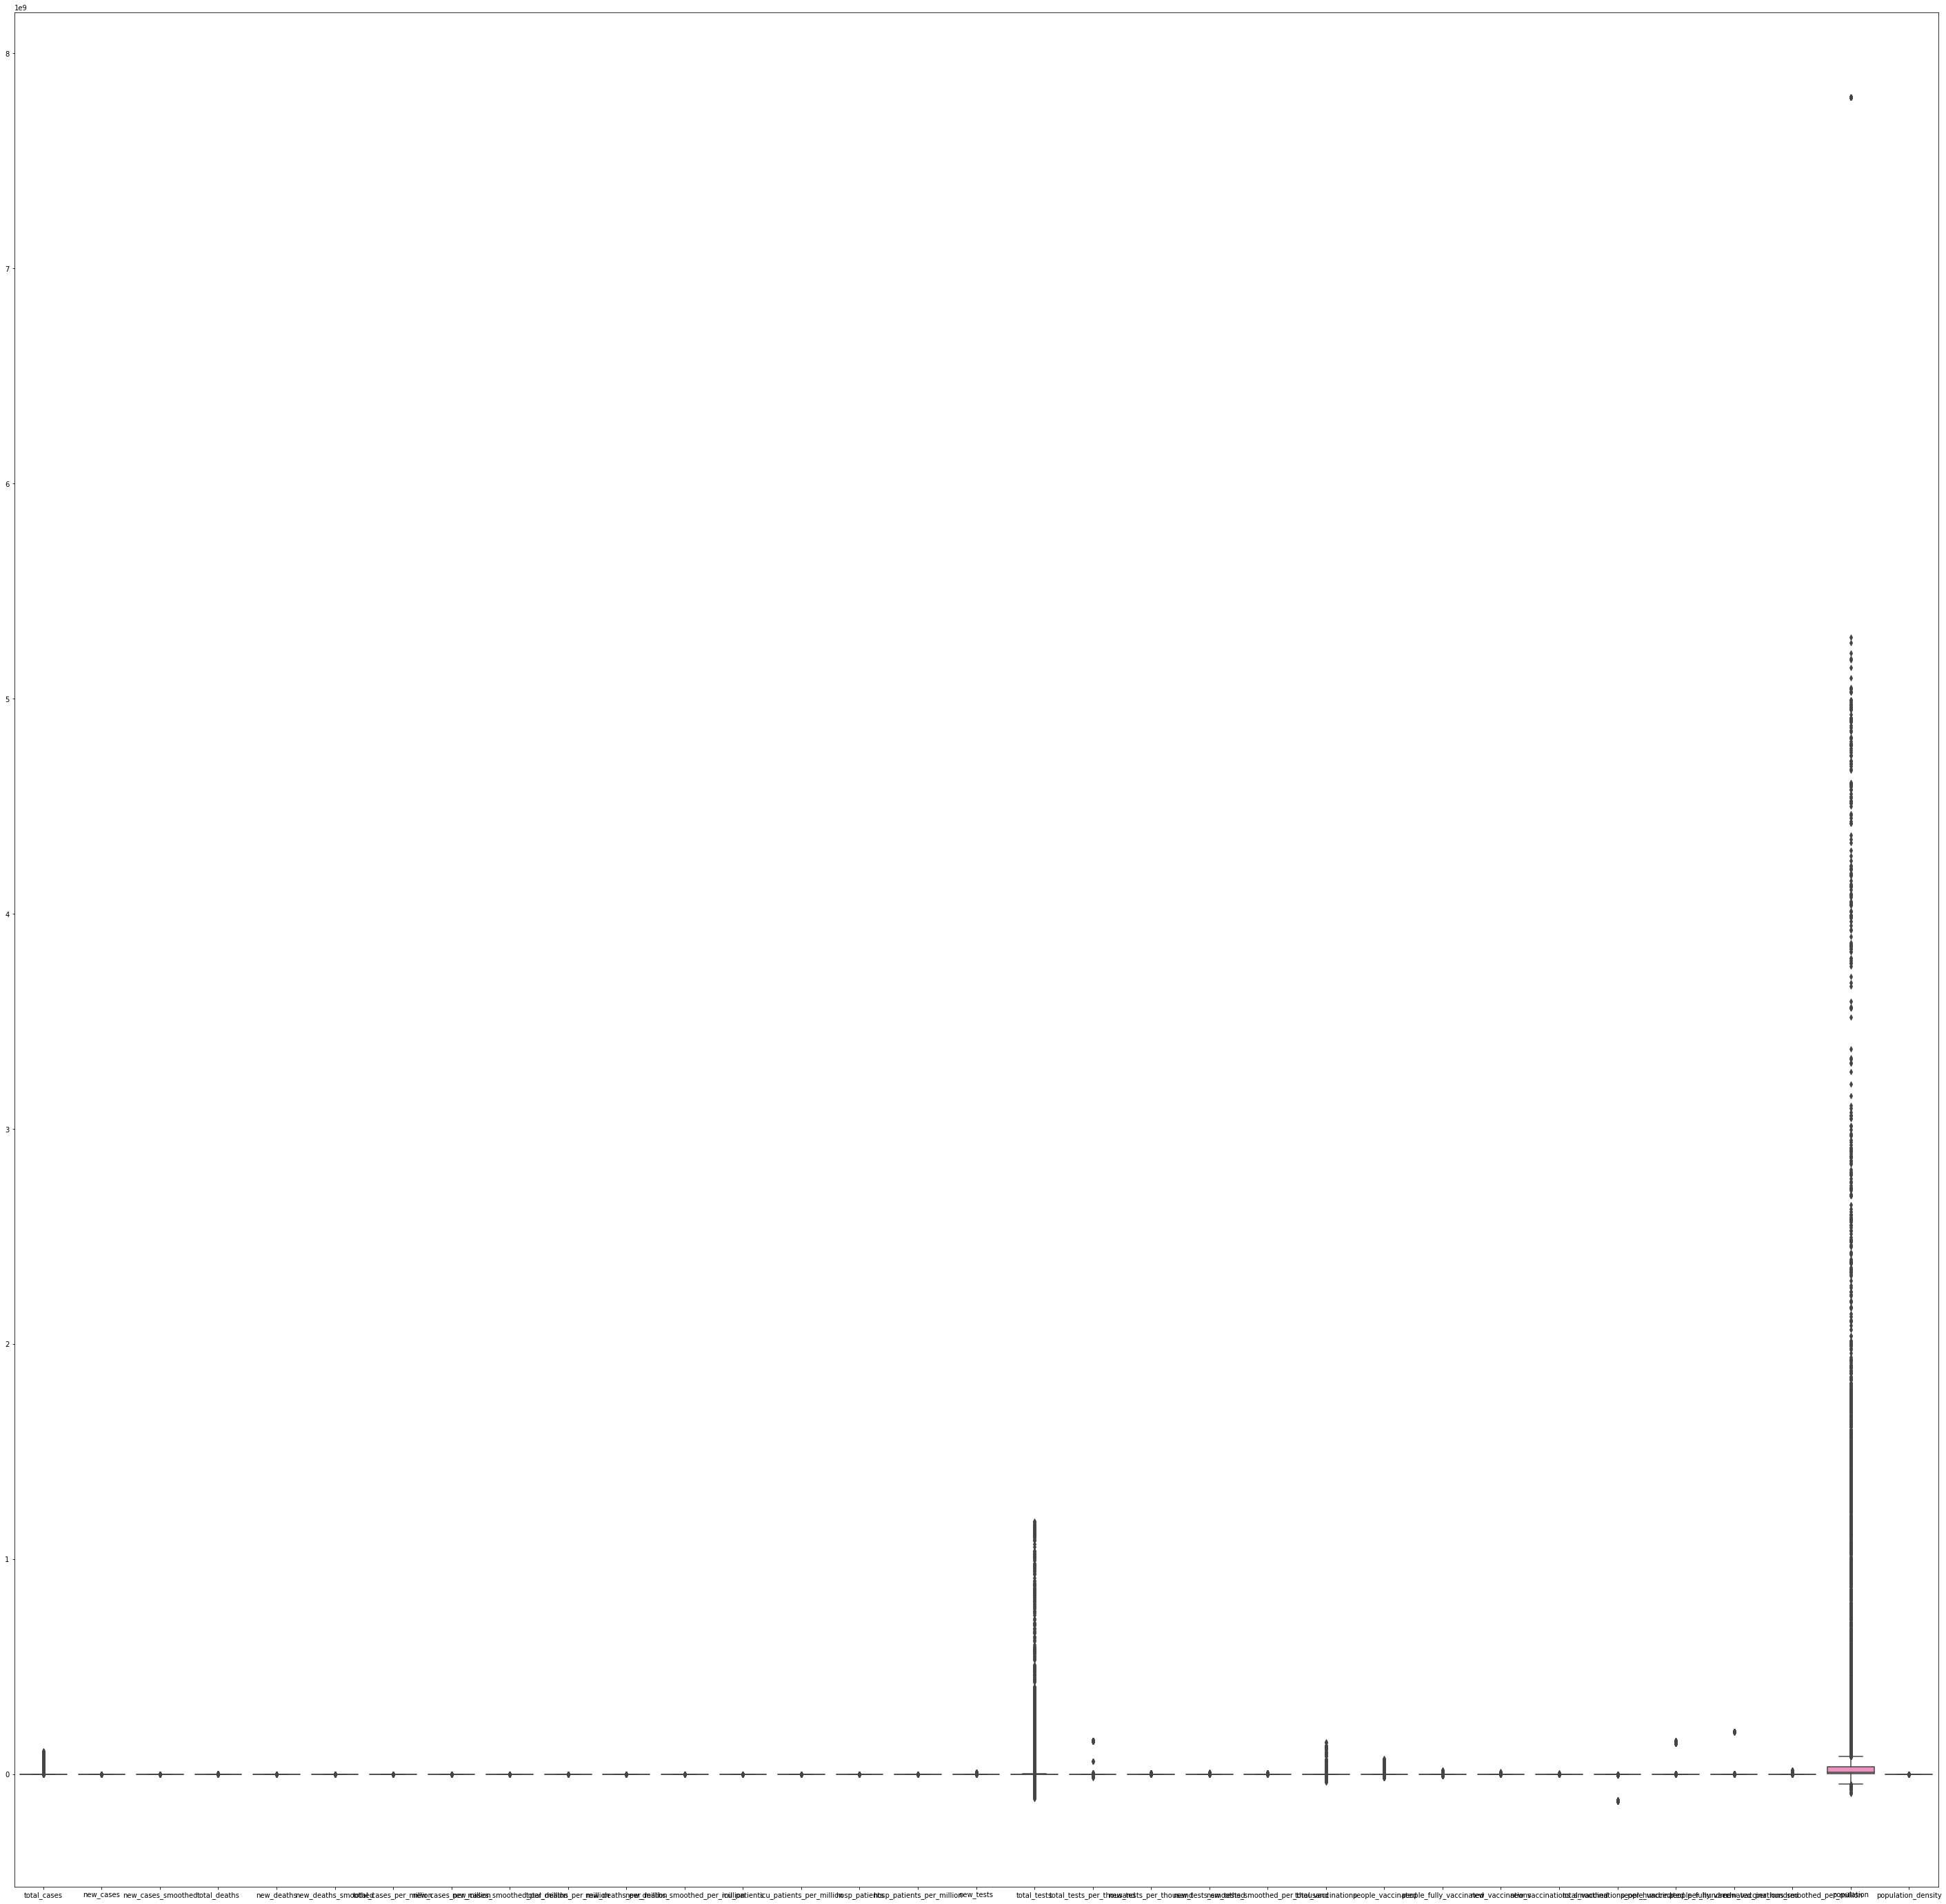

This screenshot's page, from the dashboard's own definition file:
{"tool":"tableau","page":{"name":"Dashboard 1","canvas":[1000,1000],"units":"permille","ordinal":0},"visuals":[{"type":"worksheet","box":[0,0,1000,1000]},{"type":"worksheet","box":[6.9,13.5,986.1,43.4]},{"type":"worksheet","param":"vert","box":[6.9,56.9,986.1,39.7]},{"type":"worksheet","box":[6.9,96.7,986.1,39.7]},{"type":"worksheet","param":"horz","box":[6.9,136.4,986.1,850.1]},{"type":"worksheet","param":"horz","box":[6.9,136.4,986.1,850.1]},{"type":"worksheet","param":"horz","box":[6.9,136.4,986.1,850.1]},{"type":"worksheet","param":"horz","box":[6.9,136.4,986.1,850.1]},{"type":"worksheet","box":[6.9,136.4,986.1,850.1]},{"type":"worksheet","param":"vert","box":[6.9,136.4,986.1,426.9]},{"type":"worksheet","title":"Sheet 3","mark":"Automatic","box":[6.9,136.4,986.1,426.9]},{"type":"worksheet","title":"Sheet 3","mark":"Automatic","param":"[federated.1l045hk0osin6h140kqe60hnuj9z].[none:location:nk]","box":[25.1,162.2,129,45.6]},{"type":"worksheet","param":"vert","box":[6.9,563.3,986.1,28.5]},{"type":"worksheet","box":[6.9,591.8,986.1,49.8]},{"type":"worksheet","param":"horz","box":[6.9,641.7,986.1,344.8]},{"type":"worksheet","box":[6.9,641.7,986.1,344.8]},{"type":"worksheet","title":"Sheet 4 (2)","mark":"Line","rows":["new_cases"],"cols":["date"],"box":[6.9,641.7,986.1,344.8]}]}

Visuals, with their boxes on the dashboard's canvas, which has no fixed pixel size, in thousandths of its width and height (x1, y1, x2, y2). These are canvas units, not pixel positions in the 1946x1904 screenshot, which may show the page scaled, cropped or inside an application window:
worksheet: left=0, top=0, right=1000, bottom=1000
worksheet: left=7, top=14, right=993, bottom=57
worksheet: left=7, top=57, right=993, bottom=97
worksheet: left=7, top=97, right=993, bottom=136
worksheet: left=7, top=136, right=993, bottom=986
worksheet: left=7, top=136, right=993, bottom=986
worksheet: left=7, top=136, right=993, bottom=986
worksheet: left=7, top=136, right=993, bottom=986
worksheet: left=7, top=136, right=993, bottom=986
worksheet: left=7, top=136, right=993, bottom=563
"Sheet 3" worksheet: left=7, top=136, right=993, bottom=563
"Sheet 3" worksheet: left=25, top=162, right=154, bottom=208
worksheet: left=7, top=563, right=993, bottom=592
worksheet: left=7, top=592, right=993, bottom=642
worksheet: left=7, top=642, right=993, bottom=986
worksheet: left=7, top=642, right=993, bottom=986
"Sheet 4 (2)" worksheet (Line marks): left=7, top=642, right=993, bottom=986
